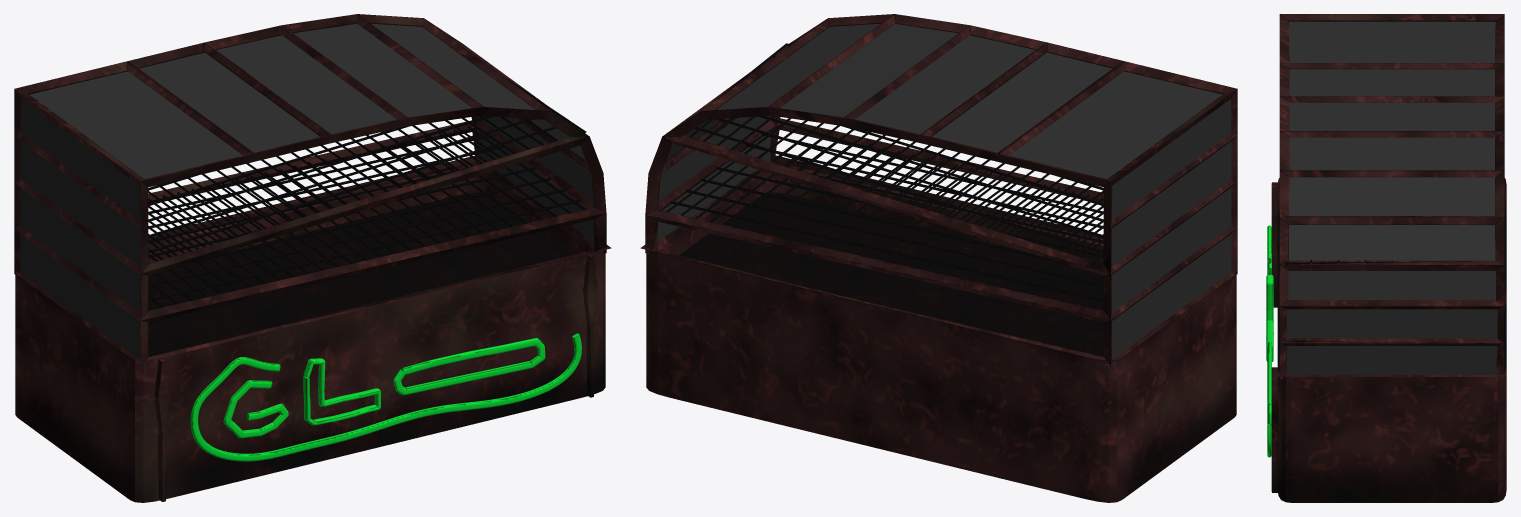
Rendered from Schaufenster.glb.
The picture shows the model from 3 angles, left to right: view 1: azimuth 30°, elevation 25°; view 2: azimuth 150°, elevation 25°; view 3: azimuth 270°, elevation 25°; orthographic projection. The views are drawn at different scales.
Parts seen in each view (by area): view 1: Cube, Glas, Deckel, Ablagen, NurbsPath; view 2: Cube, Glas, Deckel, Ablagen; view 3: Glas, Cube, Deckel, NurbsPath, Ablagen.
Boxes of the visible parts, left/top/right/bottom form: Cube: left=15, top=155, right=611, bottom=502; Glas: left=20, top=23, right=594, bottom=359; Deckel: left=14, top=14, right=606, bottom=366; Ablagen: left=17, top=75, right=586, bottom=316; NurbsPath: left=190, top=333, right=581, bottom=461; Cube: left=640, top=155, right=1236, bottom=502; Glas: left=657, top=23, right=1231, bottom=359; Deckel: left=645, top=14, right=1237, bottom=366; Ablagen: left=666, top=43, right=1234, bottom=316; Glas: left=1286, top=21, right=1497, bottom=374; Cube: left=1271, top=178, right=1506, bottom=502; Deckel: left=1279, top=14, right=1504, bottom=379; NurbsPath: left=1266, top=225, right=1273, bottom=457; Ablagen: left=1284, top=259, right=1499, bottom=345.
Bounding box in the file's own units: 36.74 × 23.91 × 18.2.
4 materials, 4 textured.
